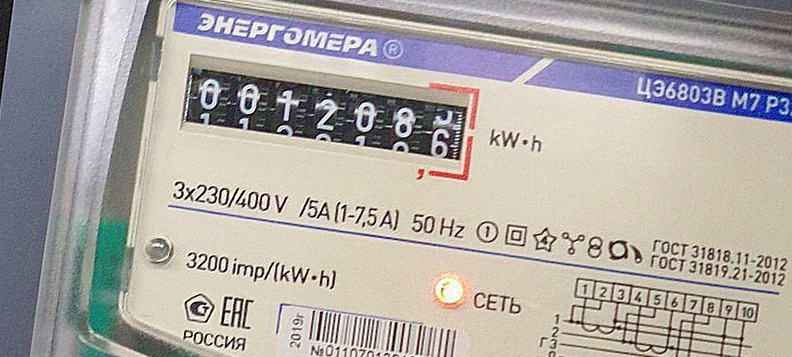0: (234, 79, 262, 119), (350, 98, 379, 136), (196, 75, 221, 114)
1: (274, 87, 296, 126)
2: (311, 96, 341, 134)
6: (425, 124, 452, 162)
8: (388, 104, 416, 143)
screen: (165, 42, 490, 198)
